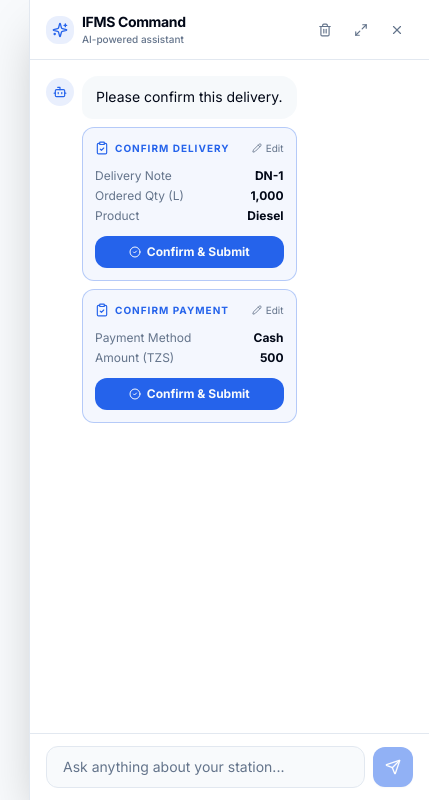
Test case: AiCommandPanel › edits confirmation payloads and renders failed confirmations
Expected: the text "Confirm Delivery" is shown, [95,140,230,156]
Expected: the text "Confirm Payment" is shown, [95,302,229,318]
Click the button "Edit" next to "Confirm Delivery" at (268, 148), box [252,140,284,156]
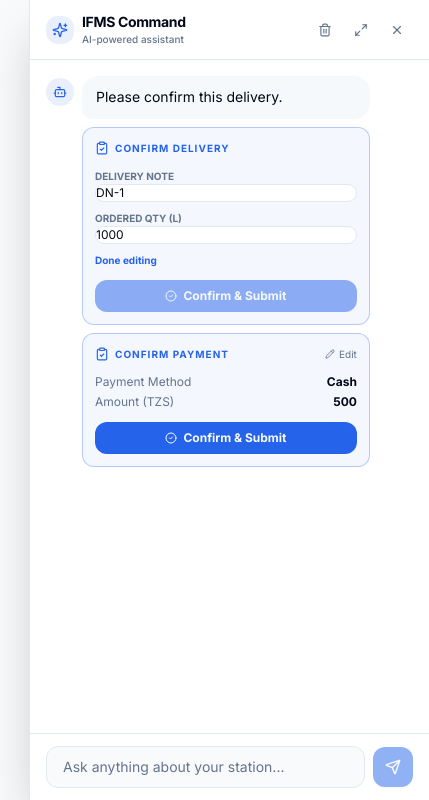
Replace the text in the field showing "DN-1" with "DN-2" at (226, 193), box [95,184,357,202]
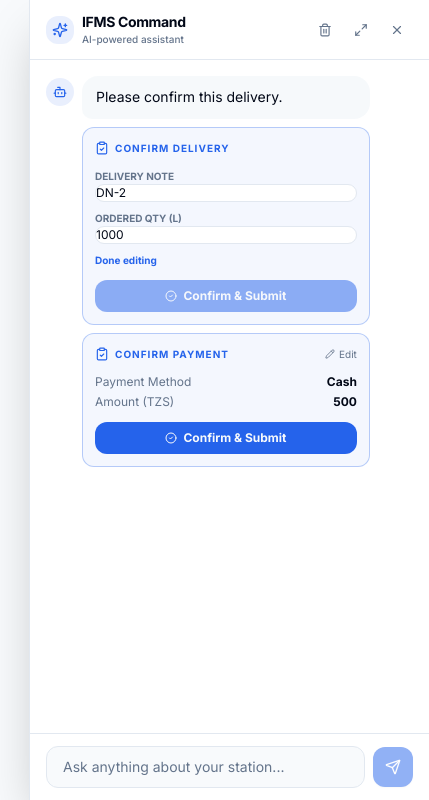
Click the button "Done editing" at (126, 260), box [95,252,157,268]
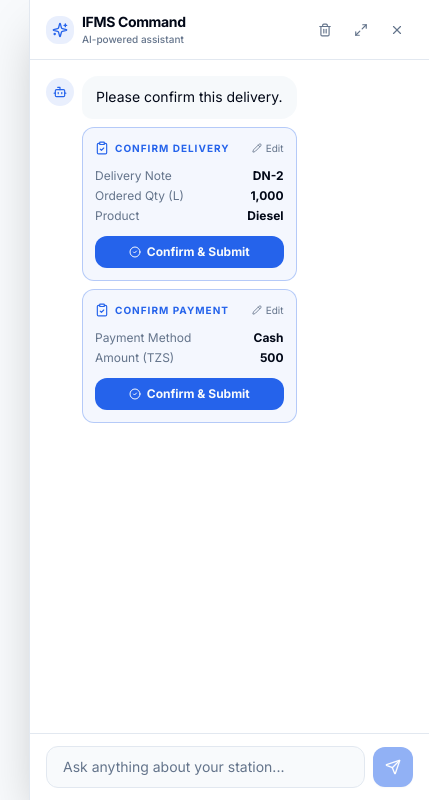
Click the button "Confirm & Submit" below "Product" at (189, 252), box [95,236,284,268]
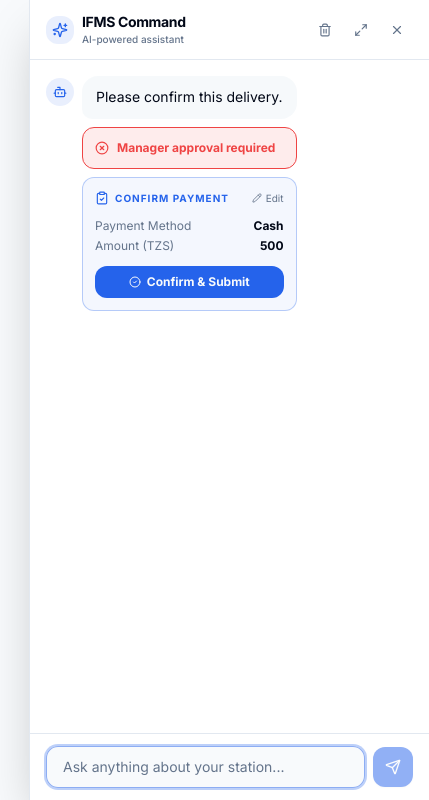
Now the text "Manager approval required" is shown, box [117,140,275,156]
